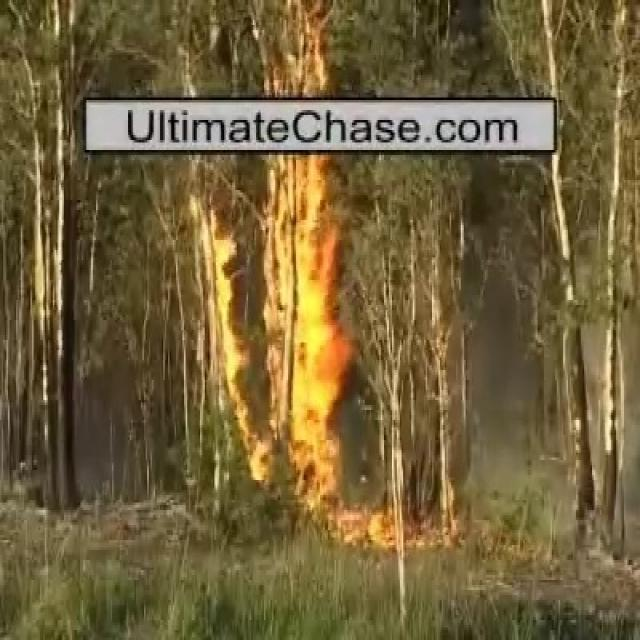fire: (271, 157, 337, 456)
